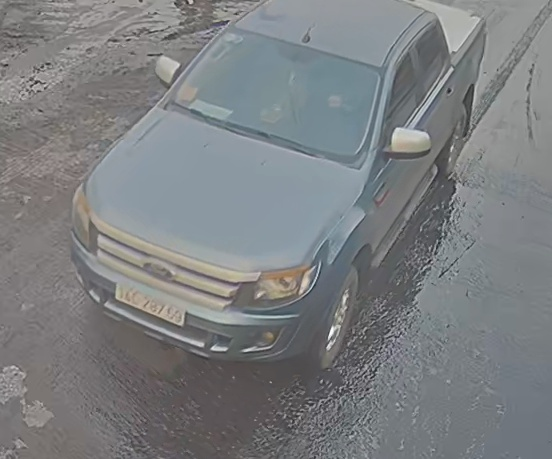vehicle plate: (112, 274, 193, 329)
